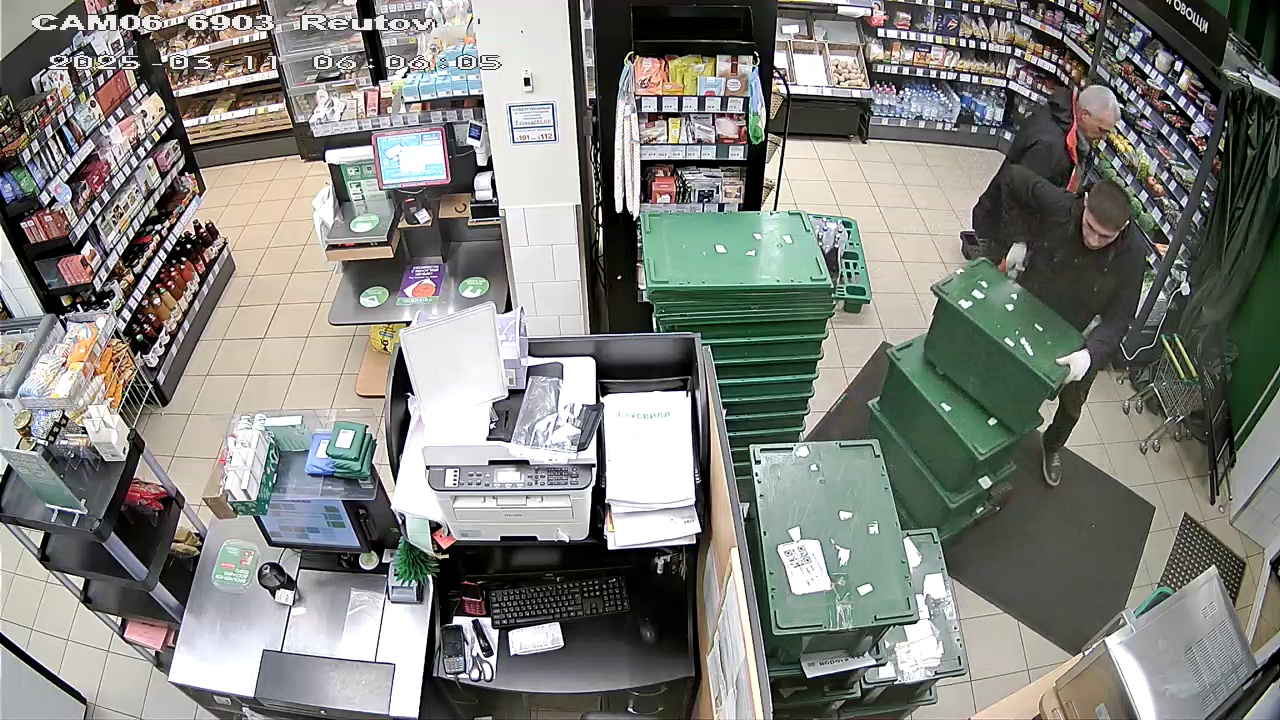Human: (972, 158, 1137, 500), (969, 62, 1118, 228)
